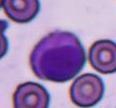M: (29, 29, 85, 82)
